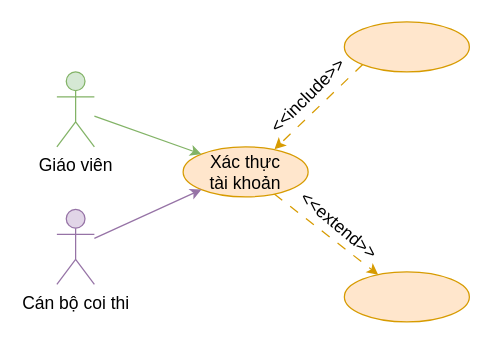
Image size: 491x344. Some labels were removed from this diagram. The box of each missing label's shape, as (x1, y1, x2, y2) in pixels:
Đăng nhập: (343, 21, 469, 72)
Đăng xuất: (343, 271, 469, 322)
